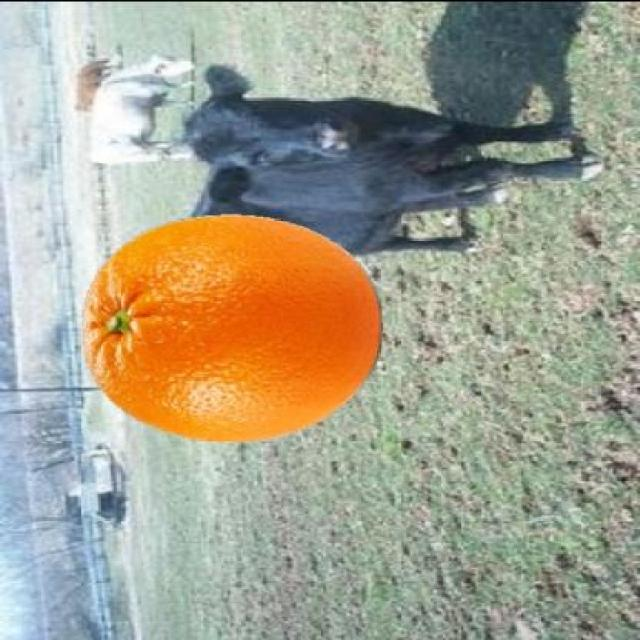Orange: (80, 211, 383, 443)
